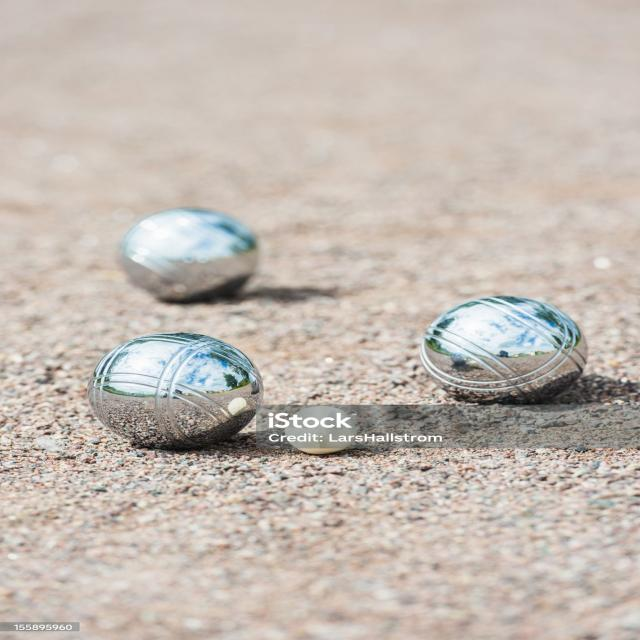petanque: (398, 288, 598, 410), (85, 327, 275, 455), (117, 202, 261, 309)
